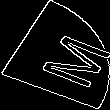M_NW: (11, 23, 99, 87)
